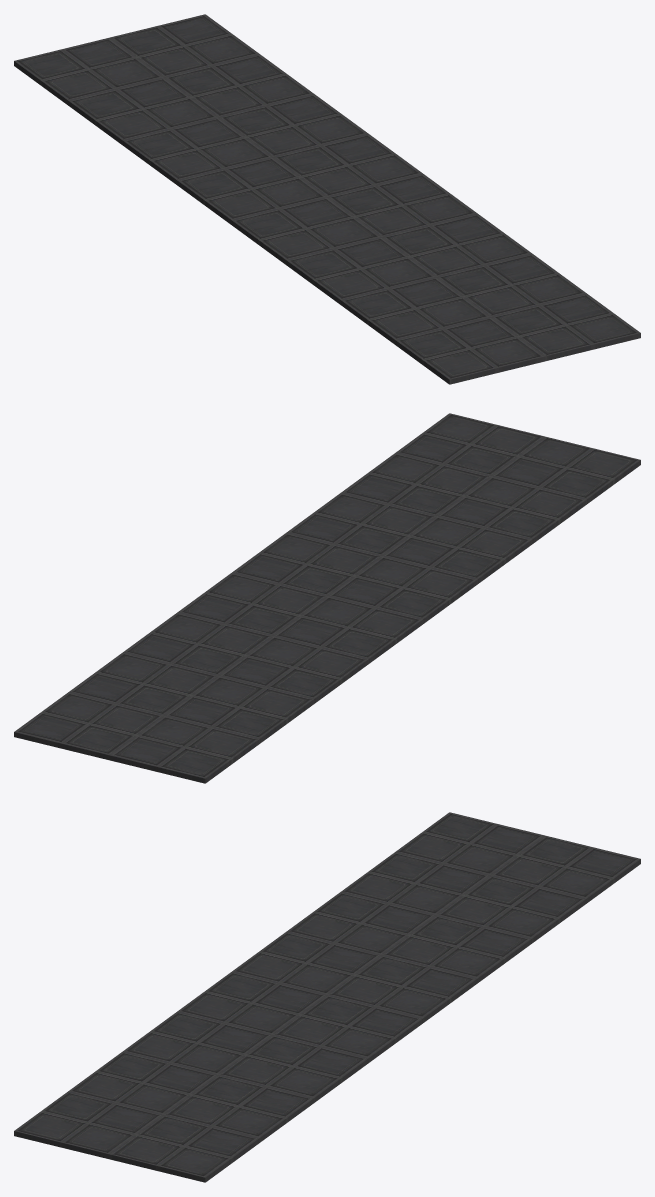
File: Homeworld_Interior_Dq_Room_O_Ceiling_01_Vo.fbx
3 renders of one model, top to bottom at view 1: azimuth 30°, elevation 25°; view 2: azimuth 150°, elevation 25°; view 3: azimuth 330°, elevation 25°, orthographic.
Parts seen in each view (by area): view 1: Homeworld_Interior_Dq_Room_O_Ceiling_01_Vo; view 2: Homeworld_Interior_Dq_Room_O_Ceiling_01_Vo; view 3: Homeworld_Interior_Dq_Room_O_Ceiling_01_Vo.
Boxes of the visible parts, bbox=[...] form: Homeworld_Interior_Dq_Room_O_Ceiling_01_Vo: bbox=[14, 14, 640, 384]; Homeworld_Interior_Dq_Room_O_Ceiling_01_Vo: bbox=[14, 413, 640, 783]; Homeworld_Interior_Dq_Room_O_Ceiling_01_Vo: bbox=[14, 812, 640, 1182].
Size of the model in its own units: 5.1 by 0.1279 by 20.1.
